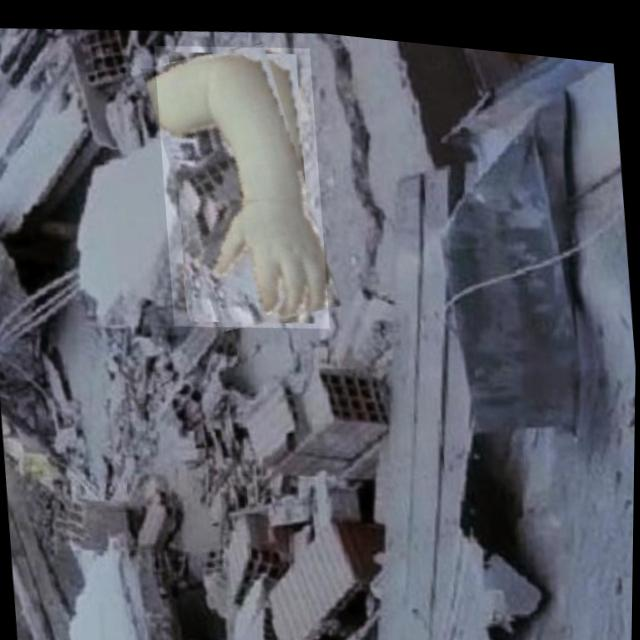Person in Rubble: (150, 27, 334, 334)
